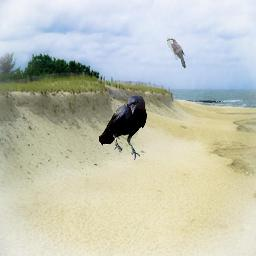Crow: (99, 95, 147, 160)
Cuckoo: (167, 38, 186, 69)
